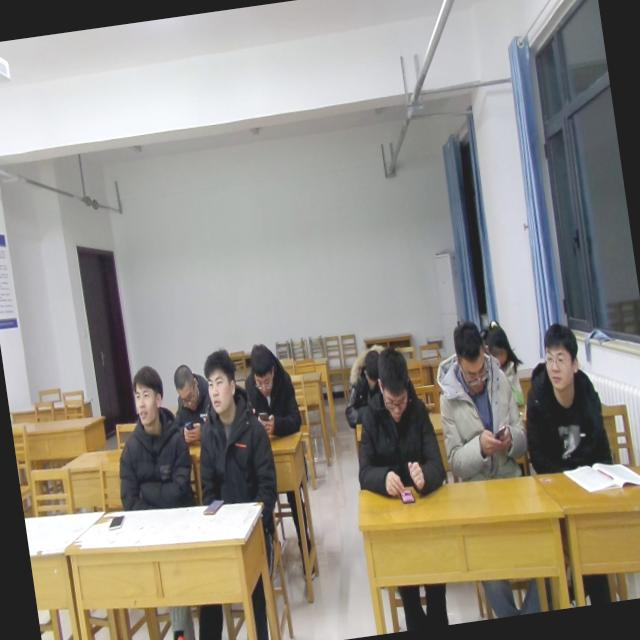bow: (238, 336, 305, 446), (336, 343, 399, 434), (166, 359, 219, 450)
down: (446, 314, 496, 400), (372, 341, 419, 428), (242, 332, 282, 398), (167, 353, 205, 416), (478, 309, 516, 372), (356, 346, 386, 394)
lookup: (533, 313, 586, 396), (124, 359, 169, 434), (200, 345, 244, 418)
sit: (426, 313, 534, 490), (338, 342, 446, 507), (179, 343, 282, 510), (511, 316, 616, 476), (100, 360, 199, 514), (476, 318, 528, 416)
